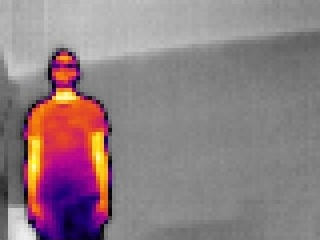human: (23, 48, 113, 240)
